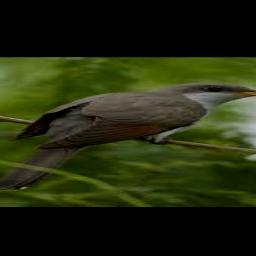Cuckoo: (0, 82, 256, 189)
